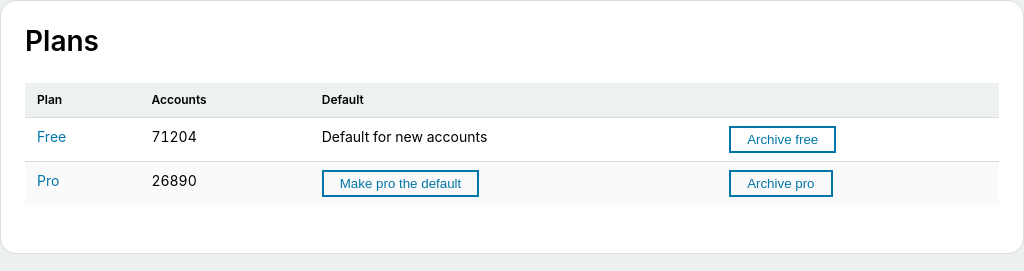
Test case: PlansListRoute › abandons the designation on cancel, leaving the default untouched
Expected: the row with test id "plan-row-pro" is shown, [25,161,999,205]
Click the button "Make pro the default": point(400, 183) [322,170,479,197]
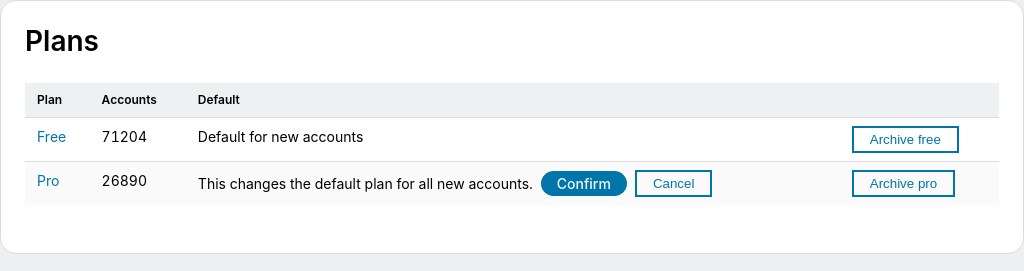
Click the button "Cancel": point(674, 183) [635,170,712,197]
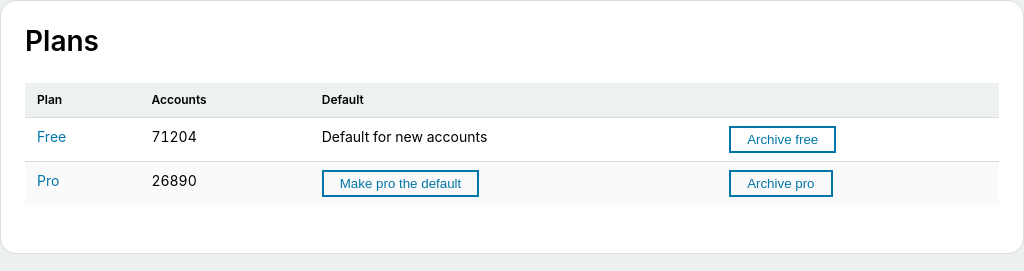
Expected: the button "Make pro the default" is shown, [322,170,479,197]
